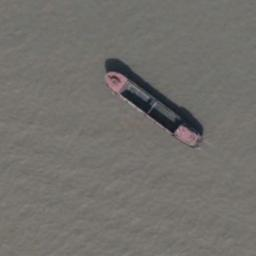boat: (103, 70, 204, 149)
